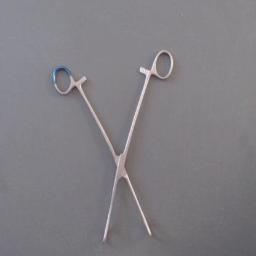Sponge Forceps: (48, 46, 176, 248)
